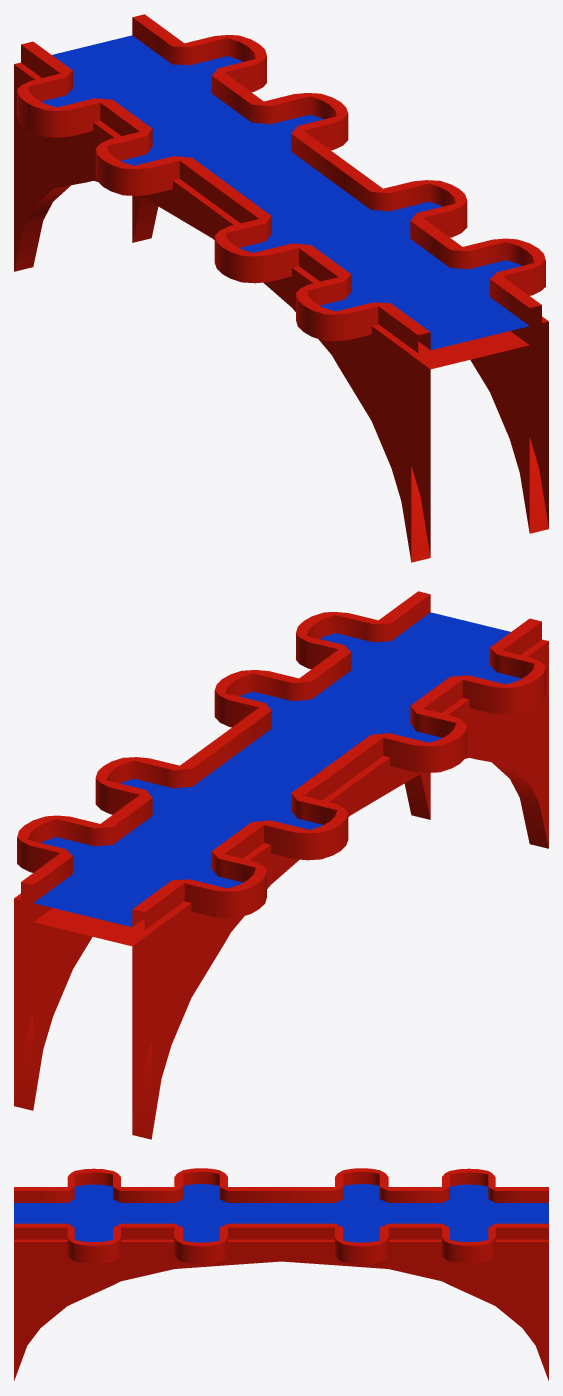
File: Skybridge_Open.fbx
3 views of the same model, one above another, from view 1: azimuth 30°, elevation 25°; view 2: azimuth 150°, elevation 25°; view 3: azimuth 270°, elevation 25° (orthographic). The views are drawn at different scales.
Visible parts, largest first — view 1: BridgeOpen; view 2: BridgeOpen; view 3: BridgeOpen.
Part boxes in pixels (x1=…): BridgeOpen: x1=14, y1=14, x2=548, y2=562; BridgeOpen: x1=14, y1=591, x2=548, y2=1139; BridgeOpen: x1=14, y1=1168, x2=548, y2=1380.
Bounding box in the file's own units: 691 × 627 × 2000.
